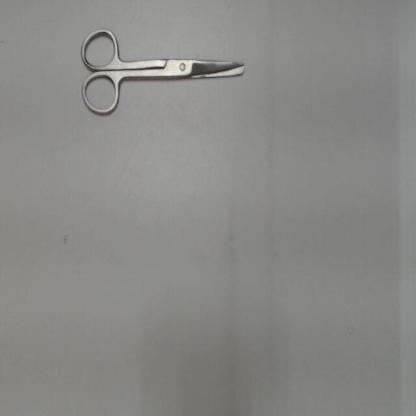Dressing Scissors: (73, 19, 255, 125)
